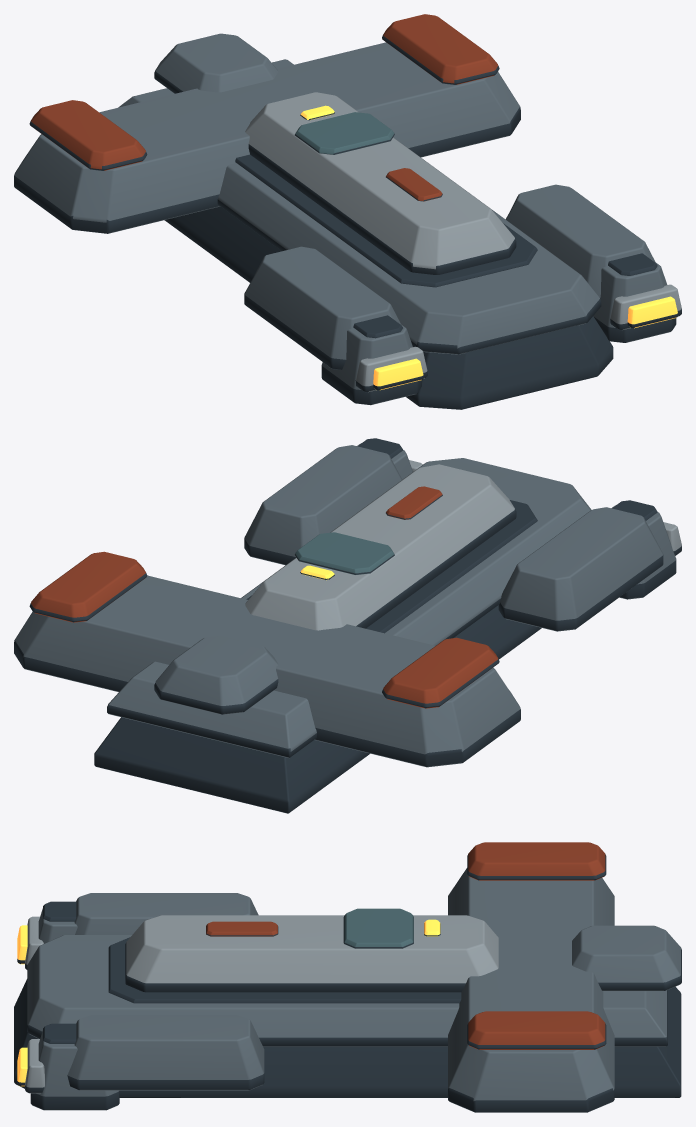
File: enemy-large-4slot.glb
3 views of the same model, one above another, from view 1: azimuth 30°, elevation 25°; view 2: azimuth 150°, elevation 25°; view 3: azimuth 270°, elevation 25° (orthographic).
Parts seen in each view (by area): view 1: Hammerhead cross armor, Armored deck, Command spine, Graphite keel, Aft hip, Aft hip.001, Raised bow shield, Recessed command well, Hammerhead rust tip, Hammerhead rust tip.001, Engine cowling, Engine cowling.001 (+8 smaller); view 2: Hammerhead cross armor, Command spine, Armored deck, Graphite keel, Aft hip, Aft hip.001, Raised bow shield, Hammerhead rust tip, Hammerhead rust tip.001, Recessed command well, Recessed bridge glass, Engine cowling (+1 smaller); view 3: Hammerhead cross armor, Command spine, Armored deck, Graphite keel, Aft hip.001, Raised bow shield, Aft hip, Hammerhead rust tip, Hammerhead rust tip.001, Recessed command well, Engine cowling.001, Recessed bridge glass (+6 smaller).
Part boxes in pixels (bbox=[...]): Hammerhead cross armor: bbox=[14, 42, 520, 233]; Armored deck: bbox=[118, 59, 601, 354]; Command spine: bbox=[245, 92, 516, 274]; Graphite keel: bbox=[164, 206, 613, 409]; Aft hip: bbox=[244, 246, 400, 369]; Aft hip.001: bbox=[505, 184, 655, 298]; Raised bow shield: bbox=[154, 33, 278, 93]; Recessed command well: bbox=[235, 154, 537, 287]; Hammerhead rust tip: bbox=[29, 100, 147, 170]; Hammerhead rust tip.001: bbox=[382, 14, 499, 84]; Engine cowling: bbox=[321, 319, 421, 405]; Engine cowling.001: bbox=[593, 256, 676, 342]; Hammerhead cross armor: bbox=[14, 575, 520, 767]; Command spine: bbox=[245, 464, 516, 630]; Armored deck: bbox=[107, 458, 591, 757]; Graphite keel: bbox=[94, 605, 541, 813]; Aft hip: bbox=[498, 507, 663, 631]; Aft hip.001: bbox=[244, 445, 402, 565]; Raised bow shield: bbox=[154, 635, 278, 714]; Hammerhead rust tip: bbox=[382, 637, 499, 708]; Hammerhead rust tip.001: bbox=[29, 551, 147, 622]; Recessed command well: bbox=[246, 500, 537, 633]; Recessed bridge glass: bbox=[295, 532, 394, 574]; Engine cowling: bbox=[611, 505, 676, 599]; Hammerhead cross armor: bbox=[448, 868, 614, 1112]; Command spine: bbox=[125, 915, 498, 992]; Armored deck: bbox=[27, 935, 667, 1046]; Graphite keel: bbox=[14, 979, 681, 1097]; Aft hip.001: bbox=[67, 1015, 264, 1090]; Raised bow shield: bbox=[572, 925, 681, 991]; Aft hip: bbox=[74, 893, 258, 934]; Hammerhead rust tip: bbox=[467, 842, 606, 880]; Hammerhead rust tip.001: bbox=[467, 1011, 606, 1049]; Recessed command well: bbox=[108, 937, 461, 1003]; Engine cowling.001: bbox=[30, 1031, 119, 1110]; Recessed bridge glass: bbox=[343, 908, 413, 948].
Size of the model in its own units: 4.6 by 1.25 by 6.01.
